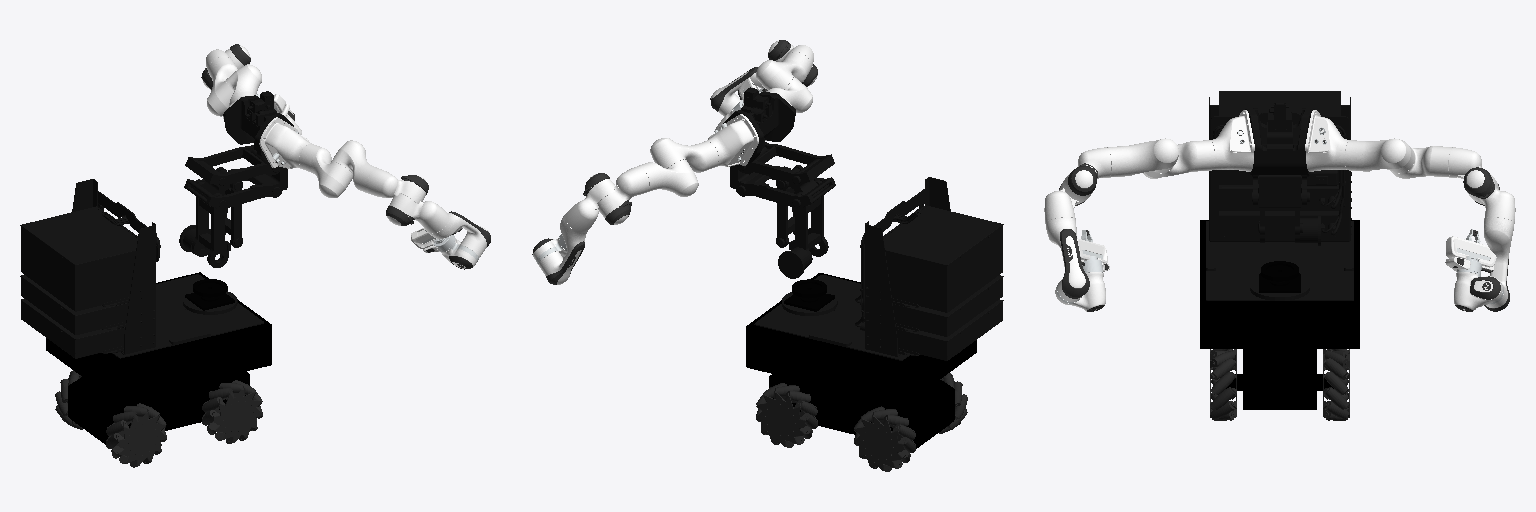
--- Render facts (derived) ---
3 views of the same robot in one strip: view 1: azimuth 30°, elevation 25°; view 2: azimuth 150°, elevation 25°; view 3: azimuth 270°, elevation 25° (orthographic).
Model curi with 40 links and 39 joints (23 revolute, 4 continuous, 4 prismatic, 8 fixed), rooted at summit_xls_base_footprint, posed joints at zero except 2 at the middle of their limits (panda_left_joint4 = -1.57, panda_right_joint4 = -1.57).
Visible links, largest first — view 1: control_box, summit_xls_base_link, summit_xls_back_right_wheel_link, summit_xls_front_right_wheel_link, torso_link_b2, torso_end, torso_link_c2, panda_right_link0, panda_right_link1, panda_right_link4, torso_link_c1, panda_right_link3 (+8 smaller); view 2: control_box, summit_xls_base_link, summit_xls_back_left_wheel_link, summit_xls_front_left_wheel_link, torso_link_b2, torso_end, torso_link_c2, panda_left_link0, panda_left_link3, panda_left_link1, torso_link_c1, panda_left_link5 (+9 smaller); view 3: control_box, summit_xls_base_link, torso_end, panda_right_link2, panda_left_link1, panda_right_link5, panda_left_link0, panda_right_link0, summit_xls_front_left_wheel_link, summit_xls_front_right_wheel_link, panda_right_link3, panda_left_link4 (+11 smaller).
Boxes of the visible links, <box> form: control_box: <box>20,179,263,358</box>; summit_xls_base_link: <box>46,272,271,444</box>; summit_xls_back_right_wheel_link: <box>106,403,166,467</box>; summit_xls_front_right_wheel_link: <box>202,380,262,443</box>; torso_link_b2: <box>179,182,230,267</box>; torso_end: <box>223,95,293,189</box>; torso_link_c2: <box>185,145,281,186</box>; panda_right_link0: <box>259,117,311,168</box>; panda_right_link1: <box>299,144,352,197</box>; panda_right_link4: <box>386,193,448,232</box>; torso_link_c1: <box>184,168,282,210</box>; panda_right_link3: <box>367,169,428,203</box>; control_box: <box>754,177,1003,360</box>; summit_xls_base_link: <box>746,273,976,448</box>; summit_xls_back_left_wheel_link: <box>854,406,915,471</box>; summit_xls_front_left_wheel_link: <box>756,383,817,447</box>; torso_link_b2: <box>778,180,828,278</box>; torso_end: <box>723,92,795,188</box>; torso_link_c2: <box>737,142,834,185</box>; panda_left_link0: <box>704,114,758,166</box>; panda_left_link3: <box>598,167,648,224</box>; panda_left_link1: <box>650,138,718,172</box>; torso_link_c1: <box>735,166,835,209</box>; panda_left_link5: <box>538,214,587,284</box>; control_box: <box>1206,91,1353,300</box>; summit_xls_base_link: <box>1200,220,1359,409</box>; torso_end: <box>1245,108,1314,207</box>; panda_right_link2: <box>1107,138,1178,177</box>; panda_left_link1: <box>1345,138,1414,172</box>; panda_right_link5: <box>1045,217,1089,301</box>; panda_left_link0: <box>1305,110,1348,171</box>; panda_right_link0: <box>1211,110,1254,171</box>; summit_xls_front_left_wheel_link: <box>1323,351,1349,420</box>; summit_xls_front_right_wheel_link: <box>1210,351,1236,420</box>; panda_right_link3: <box>1063,147,1111,200</box>; panda_left_link4: <box>1463,167,1515,222</box>.
Size in the robot's own frame: 1.62 by 1.7 by 1.39 metres.
Meshes: 25 distinct files referenced, 37 mesh visuals loaded (23 Collada DAE); not drawn: 2 (reference not matched to a file when rendering).

robot.urdf — curi:
<?xml version="1.0" ?>
<!-- =================================================================================== -->
<!-- |    This document was autogenerated by xacro from ../robots/curi.urdf.xacro      | -->
<!-- |    EDITING THIS FILE BY HAND IS NOT RECOMMENDED                                 | -->
<!-- =================================================================================== -->
<robot name="curi">
  <!-- in kg-->
  <!-- =============================================================== -->
  <!-- || This file does not contain official inertial properties   || -->
  <!-- || of panda robot. The values are from the identification    || -->
  <!-- || results published in: Identification of the Franka Emika  || -->
  <!-- || PandaRobot With Retrieval of Feasible Parameters Using    || -->
  <!-- || Penalty-Based Optimization                                || -->
  <!-- || by: Claudio Gaz, Marco Cognetti, Alexander Oliva,         || -->
  <!-- || Paolo Robuffo Giordano, Alessandro de Luca                || -->
  <!-- =============================================================== -->
  <link name="summit_xls_base_footprint">
    <visual>
      <origin rpy="0 0 0" xyz="0 0 0"/>
      <geometry>
        <box size="0.001 0.001 0.001"/>
      </geometry>
    </visual>
  </link>
  <joint name="summit_xls_base_footprint_joint" type="fixed">
    <origin rpy="0 0 0" xyz="0 0 0.127"/>
    <parent link="summit_xls_base_footprint"/>
    <child link="summit_xls_base_link"/>
  </joint>
  <!-- BASE_LINK -->
  <link name="summit_xls_base_link">
    <inertial>
      <mass value="125.0"/>
      <origin xyz="0 0 0"/>
      <inertia ixx="1.391" ixy="0.004" ixz="0.0" iyy="6.853" iyz="0.0" izz="6.125"/>
    </inertial>
    <visual>
      <origin rpy="0 0 0" xyz="0 0 0"/>
      <geometry>
        <mesh filename="../meshes/robotnik/bases/summit_xls_chassis.dae"/>
      </geometry>
      <material name="black">
        <color rgba="0.0 0.0 0.0 1"/>
      </material>
    </visual>
    <collision>
      <origin rpy="0 0 0 " xyz="0 0 0"/>
      <geometry>
        <mesh filename="../meshes/robotnik/bases/summit_xls_chassis.stl"/>
      </geometry>
    </collision>
  </link>
  <joint name="summit_xls_front_right_wheel_joint" type="continuous">
    <parent link="summit_xls_base_link"/>
    <child link="summit_xls_front_right_wheel_link"/>
    <origin rpy="0 0 0" xyz="0.2225 -0.2045 0.0"/>
    <axis rpy="0 0 0" xyz="0 1 0"/>
    <limit effort="100" velocity="100"/>
    <joint_properties damping="0.0" friction="0.0"/>
  </joint>
  <link name="summit_xls_front_right_wheel_link">
    <visual>
      <origin rpy="0 0 0" xyz="0 0 0"/>
      <geometry>
        <mesh filename="../meshes/robotnik/wheels/omni_wheel_2.dae"/>
      </geometry>
      <material name="darkgrey">
        <color rgba="0.2 0.2 0.2 1"/>
      </material>
    </visual>
    <collision>
      <origin rpy="1.5707963267948966 0 0" xyz="0 0 0"/>
      <geometry>
        <cylinder length="0.087" radius="0.127"/>
      </geometry>
    </collision>
    <inertial>
      <mass value="6.5"/>
      <origin xyz="0 0 0"/>
      <inertia ixx="0.0303095" ixy="0" ixz="0" iyy="0.05241925" iyz="0" izz="0.0303095"/>
    </inertial>
  </link>
  <joint name="summit_xls_front_left_wheel_joint" type="continuous">
    <parent link="summit_xls_base_link"/>
    <child link="summit_xls_front_left_wheel_link"/>
    <origin rpy="0 0 0" xyz="0.2225 0.2045 0.0"/>
    <axis rpy="0 0 0" xyz="0 1 0"/>
    <limit effort="100" velocity="100"/>
    <joint_properties damping="0.0" friction="0.0"/>
  </joint>
  <link name="summit_xls_front_left_wheel_link">
    <visual>
      <origin rpy="0 0 0" xyz="0 0 0"/>
      <geometry>
        <mesh filename="../meshes/robotnik/wheels/omni_wheel_1.dae"/>
      </geometry>
      <material name="darkgrey">
        <color rgba="0.2 0.2 0.2 1"/>
      </material>
    </visual>
    <collision>
      <origin rpy="1.5707963267948966 0 0" xyz="0 0 0"/>
      <geometry>
        <cylinder length="0.087" radius="0.127"/>
      </geometry>
    </collision>
    <inertial>
      <mass value="6.5"/>
      <origin xyz="0 0 0"/>
      <inertia ixx="0.0303095" ixy="0" ixz="0" iyy="0.05241925" iyz="0" izz="0.0303095"/>
    </inertial>
  </link>
  <joint name="summit_xls_back_left_wheel_joint" type="continuous">
    <parent link="summit_xls_base_link"/>
    <child link="summit_xls_back_left_wheel_link"/>
    <origin rpy="0 0 0" xyz="-0.2225 0.2045 0.0"/>
    <axis rpy="0 0 0" xyz="0 1 0"/>
    <limit effort="100" velocity="100"/>
    <joint_properties damping="0.0" friction="0.0"/>
  </joint>
  <link name="summit_xls_back_left_wheel_link">
    <visual>
      <origin rpy="0 0 0" xyz="0 0 0"/>
      <geometry>
        <mesh filename="../meshes/robotnik/wheels/omni_wheel_1.dae"/>
      </geometry>
      <material name="darkgrey">
        <color rgba="0.2 0.2 0.2 1"/>
      </material>
    </visual>
    <collision>
      <origin rpy="1.5707963267948966 0 0" xyz="0 0 0"/>
      <geometry>
        <cylinder length="0.087" radius="0.127"/>
      </geometry>
    </collision>
    <inertial>
      <mass value="6.5"/>
      <origin xyz="0 0 0"/>
      <inertia ixx="0.0303095" ixy="0" ixz="0" iyy="0.05241925" iyz="0" izz="0.0303095"/>
    </inertial>
  </link>
  <joint name="summit_xls_back_right_wheel_joint" type="continuous">
    <parent link="summit_xls_base_link"/>
    <child link="summit_xls_back_right_wheel_link"/>
    <origin rpy="0 0 0" xyz="-0.2225 -0.2045 0.0"/>
    <axis rpy="0 0 0" xyz="0 1 0"/>
    <limit effort="100" velocity="100"/>
    <joint_properties damping="0.0" friction="0.0"/>
  </joint>
  <link name="summit_xls_back_right_wheel_link">
    <visual>
      <origin rpy="0 0 0" xyz="0 0 0"/>
      <geometry>
        <mesh filename="../meshes/robotnik/wheels/omni_wheel_2.dae"/>
      </geometry>
      <material name="darkgrey">
        <color rgba="0.2 0.2 0.2 1"/>
      </material>
    </visual>
    <collision>
      <origin rpy="1.5707963267948966 0 0" xyz="0 0 0"/>
      <geometry>
        <cylinder length="0.087" radius="0.127"/>
      </geometry>
    </collision>
    <inertial>
      <mass value="6.5"/>
      <origin xyz="0 0 0"/>
      <inertia ixx="0.0303095" ixy="0" ixz="0" iyy="0.05241925" iyz="0" izz="0.0303095"/>
    </inertial>
  </link>
  <joint name="torso_joint_summit_xls_base_footprint" type="fixed">
    <parent link="summit_xls_base_footprint"/>
    <child link="control_box"/>
    <origin rpy="0 0 0" xyz="0 0 0.52262"/>
  </joint>
  <link name="control_box">
    <visual>
      <origin rpy="0 0 0" xyz="0 0 0"/>
      <geometry>
        <mesh filename="../meshes/clover/visual/control_box.dae"/>
      </geometry>
    </visual>
    <collision>
      <origin rpy="0 0 0" xyz="0 0 0"/>
      <geometry>
        <mesh filename="../meshes/clover/collision/control_box.stl"/>
      </geometry>
    </collision>
    <inertial>
      <!-- Estimated guesses from CAD -->
      <origin rpy="0 0 0" xyz="-0.221652 1.4173e-02 0.165597"/>
      <mass value="37.813"/>
      <inertia ixx="1.672305973" ixy="-0.023504956" ixz="-0.565170381" iyy="2.616747309" iyz="0.046623093" izz="2.524344244"/>
    </inertial>
  </link>
  <link name="torso_base1">
    <visual>
      <origin rpy="0 0 0" xyz="0 0 0"/>
      <geometry>
        <mesh filename="../meshes/clover/visual/torso_base1.dae"/>
      </geometry>
    </visual>
    <collision>
      <origin rpy="0 0 0" xyz="0 0 0"/>
      <geometry>
        <mesh filename="../meshes/clover/collision/torso_base1.stl"/>
      </geometry>
    </collision>
    <inertial>
      <origin rpy="0 0 0" xyz="0 0 0.02555"/>
      <mass value="1.18"/>
      <inertia ixx="0.00241116" ixy="0" ixz="0" iyy="0.00241116" iyz="0" izz="0.00362611"/>
    </inertial>
  </link>
  <joint name="torso_joint1" type="fixed">
    <origin rpy="0 0 0" xyz="0.2375 0 0.015"/>
    <parent link="control_box"/>
    <child link="torso_base1"/>
  </joint>
  <link name="torso_base2">
    <visual>
      <origin rpy="0 0 0" xyz="0 0 0"/>
      <geometry>
        <mesh filename="../meshes/clover/visual/torso_base2.dae"/>
      </geometry>
    </visual>
    <collision>
      <origin rpy="0 0 0" xyz="0 0 0"/>
      <geometry>
        <mesh filename="../meshes/clover/collision/torso_base2.stl"/>
      </geometry>
    </collision>
    <inertial>
      <origin rpy="0 0 0" xyz="-0.05478 0.03332 -0.07616"/>
      <mass value="35.66"/>
      <inertia ixx="0.87275935" ixy="-0.06173772" ixz="0.01895727" iyy="0.57302356" iyz="0.11888755" izz="1.06212354"/>
    </inertial>
  </link>
  <joint name="torso_actuated_joint1" type="revolute">
    <safety_controller k_position="100.0" k_velocity="40.0" soft_lower_limit="-1.5" soft_upper_limit="1.5"/>
    <origin rpy="0 0 0" xyz="0 0 0.215"/>
    <parent link="torso_base1"/>
    <child link="torso_base2"/>
    <axis xyz="0 0 1"/>
    <limit acceleration="0.6" effort="300" lower="-1.57" upper="1.57" velocity="0.3"/>
    <dynamics D="1" K="7000" damping="0.003" friction="0.0" mu_coulomb="0" mu_viscous="16"/>
  </joint>
  <link name="torso_link_b2">
    <visual>
      <origin rpy="0 0 0" xyz="0 0 0"/>
      <geometry>
        <mesh filename="../meshes/clover/visual/torso_link_b2.dae"/>
      </geometry>
    </visual>
    <collision>
      <origin rpy="0 0 0" xyz="0 0 0"/>
      <geometry>
        <mesh filename="../meshes/clover/collision/torso_link_b2.stl"/>
      </geometry>
    </collision>
    <inertial>
      <origin rpy="0 0 0" xyz="2.066e-03 2.4036e-02 8.3361e-02"/>
      <mass value="2.698"/>
      <inertia ixx="0.035907338" ixy="-0.000134319" ixz="0.000037769" iyy="0.023944853" iyz="-0.005304362" izz="0.014484777"/>
    </inertial>
  </link>
  <joint name="torso_actuated_joint2" type="revolute">
    <safety_controller k_position="100.0" k_velocity="40.0" soft_lower_limit="-1.2" soft_upper_limit="0.5"/>
    <origin rpy="0 0 0" xyz="0 0 0"/>
    <parent link="torso_base2"/>
    <child link="torso_link_b2"/>
    <axis xyz="0 1 0"/>
    <limit acceleration="0.6" effort="300" lower="-1.2" upper="0.5" velocity="0.3"/>
    <dynamics D="1" K="7000" damping="0.003" friction="0.0" mu_coulomb="0" mu_viscous="16"/>
  </joint>
  <link name="torso_middle">
    <visual>
      <origin rpy="0 0 0" xyz="0 0 0"/>
      <geometry>
        <mesh filename="../meshes/clover/visual/torso_middle.dae"/>
      </geometry>
    </visual>
    <collision>
      <origin rpy="0 0 0" xyz="0 0 0"/>
      <geometry>
        <mesh filename="../meshes/clover/collision/torso_middle.stl"/>
      </geometry>
    </collision>
    <inertial>
      <origin rpy="0 0 0" xyz="3.2089e-02 0 4.789e-02"/>
      <mass value="2.688"/>
      <inertia ixx="0.00744652" ixy="-0.00003495" ixz="0.000230038" iyy="0.006884728" iyz="0.000041279" izz="0.008084049"/>
    </inertial>
  </link>
  <joint name="torso_joint5" type="revolute">
    <safety_controller k_position="100.0" k_velocity="40.0" soft_lower_limit="-0.5" soft_upper_limit="1.2"/>
    <origin rpy="0 0 0" xyz="0 0 0.25"/>
    <parent link="torso_link_b2"/>
    <child link="torso_middle"/>
    <axis xyz="0 1 0"/>
    <limit acceleration="0.6" effort="300" lower="-0.5" upper="1.2" velocity="0.3"/>
    <dynamics D="1" K="7000" damping="0.003" friction="0.0" mu_coulomb="0" mu_viscous="16"/>
    <mimic joint="torso_actuated_joint2" multiplier="-1"/>
  </joint>
  <link name="torso_link_c1">
    <visual>
      <origin rpy="0 0 0" xyz="0 0 0"/>
      <geometry>
        <mesh filename="../meshes/clover/visual/torso_link_c1.dae"/>
      </geometry>
    </visual>
    <collision>
      <origin rpy="0 0 0" xyz="0 0 0"/>
      <geometry>
        <mesh filename="../meshes/clover/collision/torso_link_c1.stl"/>
      </geometry>
    </collision>
    <inertial>
      <origin rpy="0 0 0" xyz="0.10533 1.503e-03 9.863e-03"/>
      <mass value="2.4"/>
      <inertia ixx="0.014986407" ixy="-1.7102e-05" ixz="-4.53321e-04" iyy="0.027549549" iyz="-3.557e-05" izz="0.041344611"/>
    </inertial>
  </link>
  <joint name="torso_actuated_joint3" type="revolute">
    <safety_controller k_position="100.0" k_velocity="40.0" soft_lower_limit="-0.9" soft_upper_limit="0.9"/>
    <origin rpy="0 0 0" xyz="0 0 0"/>
    <parent link="torso_middle"/>
    <child link="torso_link_c1"/>
    <axis xyz="0 1 0"/>
    <limit acceleration="0.6" effort="300" lower="-0.9" upper="0.9" velocity="0.3"/>
    <dynamics D="1" K="7000" damping="0.003" friction="0.0" mu_coulomb="0" mu_viscous="16"/>
  </joint>
  <link name="torso_end">
    <visual>
      <origin rpy="0 0 0" xyz="0 0 0"/>
      <geometry>
        <mesh filename="../meshes/clover/visual/torso_end.dae"/>
      </geometry>
    </visual>
    <collision>
      <origin rpy="0 0 0" xyz="0 0 0"/>
      <geometry>
        <mesh filename="../meshes/clover/collision/torso_end.stl"/>
      </geometry>
    </collision>
    <inertial>
      <origin rpy="0 0 0" xyz="1.3086e-02 0.132e-03 0.184066"/>
      <mass value="12.083"/>
      <inertia ixx="0.146638956" ixy="-2.2432e-05" ixz="-0.012989506" iyy="0.097685785" iyz="-2.19304e-04" izz="0.100449047"/>
    </inertial>
  </link>
  <joint name="torso_joint8" type="revolute">
    <safety_controller k_position="100.0" k_velocity="40.0" soft_lower_limit="-0.9" soft_upper_limit="0.9"/>
    <origin rpy="0 0 0" xyz="0.25 0 0"/>
    <parent link="torso_link_c1"/>
    <child link="torso_end"/>
    <axis xyz="0 1 0"/>
    <limit acceleration="0.6" effort="300" lower="-0.9" upper="0.9" velocity="0.3"/>
    <dynamics D="1" K="7000" damping="0.003" friction="0.0" mu_coulomb="0" mu_viscous="16"/>
    <mimic joint="torso_actuated_joint3" multiplier="-1"/>
  </joint>
  <link name="torso_link_b1">
    <visual>
      <origin rpy="0 0 0" xyz="0 0 0"/>
      <geometry>
        <mesh filename="../meshes/clover/visual/torso_link_b1.dae"/>
      </geometry>
    </visual>
    <collision>
      <origin rpy="0 0 0" xyz="0 0 0"/>
      <geometry>
        <mesh filename="../meshes/clover/collision/torso_link_b1.stl"/>
      </geometry>
    </collision>
    <inertial>
      <origin rpy="0 0 0" xyz="0 -0.362e-03 0.12405"/>
      <mass value="1.319"/>
      <inertia ixx="0.01417626" ixy="0" ixz="0" iyy="0.01069895" iyz="0.00005678" izz="0.0039678"/>
    </inertial>
  </link>
  <joint name="torso_joint4" type="revolute">
    <safety_controller k_position="100.0" k_velocity="40.0" soft_lower_limit="-1.2" soft_upper_limit="0.5"/>
    <origin rpy="0 0 0" xyz="0.0866 0 0.05"/>
    <parent link="torso_base2"/>
    <child link="torso_link_b1"/>
    <axis xyz="0 1 0"/>
    <limit acceleration="0.6" effort="300" lower="-1.2" upper="0.5" velocity="0.3"/>
    <dynamics D="1" K="7000" damping="0.003" friction="0.0" mu_coulomb="0" mu_viscous="16"/>
    <mimic joint="torso_actuated_joint2" multiplier="1"/>
  </joint>
  <link name="torso_link_c2">
    <visual>
      <origin rpy="0 0 0" xyz="0 0 0"/>
      <geometry>
        <mesh filename="../meshes/clover/visual/torso_link_c2.dae"/>
      </geometry>
    </visual>
    <collision>
      <origin rpy="0 0 0" xyz="0 0 0"/>
      <geometry>
        <mesh filename="../meshes/clover/collision/torso_link_c2.stl"/>
      </geometry>
    </collision>
    <inertial>
      <origin rpy="0 0 0" xyz="0.120384 0.569e-03 6.703e-03"/>
      <mass value="2.148"/>
      <inertia ixx="0.010693997" ixy="5.645e-06" ixz="-9.4779e-04" iyy="0.026717753" iyz="-8.196e-06" izz="0.036543169"/>
    </inertial>
  </link>
  <joint name="torso_joint7" type="revolute">
    <safety_controller k_position="100.0" k_velocity="40.0" soft_lower_limit="-0.9" soft_upper_limit="0.9"/>
    <origin rpy="0 0 0" xyz="0 0 0.1"/>
    <parent link="torso_middle"/>
    <child link="torso_link_c2"/>
    <axis xyz="0 1 0"/>
    <limit acceleration="0.6" effort="300" lower="-0.9" upper="0.9" velocity="0.3"/>
    <dynamics D="1" K="7000" damping="0.003" friction="0.0" mu_coulomb="0" mu_viscous="16"/>
    <mimic joint="torso_actuated_joint3" multiplier="1"/>
  </joint>
  <joint name="head_joint_torso_end" type="fixed">
    <parent link="torso_end"/>
    <child link="head_base"/>
    <origin rpy="0 0 0" xyz="0.01466 0 0.2775"/>
  </joint>
  <link name="head_base">
    <visual>
      <origin rpy="0 0 0" xyz="0 0 0"/>
      <geometry>
        <mesh filename="../meshes/clover/visual/head_base.dae"/>
      </geometry>
    </visual>
    <collision>
      <origin rpy="0 0 0" xyz="0 0 0"/>
      <geometry>
        <mesh filename="../meshes/clover/collision/head_base.stl"/>
      </geometry>
    </collision>
    <inertial>
      <!-- Estimated guesses from CAD -->
      <origin rpy="0 0 0" xyz="-1.9726e-02 1.281e-03 2.2693e-02"/>
      <mass value="0.803"/>
      <inertia ixx="6.56432e-04" ixy="-3.4976e-05" ixz="0.652e-6" iyy="6.42664e-04" iyz="-1.577e-06" izz="1.046862e-03"/>
    </inertial>
  </link>
  <joint name="head_actuated_joint1" type="revolute">
    <safety_controller k_position="100.0" k_velocity="40.0" soft_lower_limit="-1.5" soft_upper_limit="1.5"/>
    <origin rpy="0 0 0" xyz="0 0 0.045"/>
    <parent link="head_base"/>
    <child link="head_link1"/>
    <axis xyz="0 0 1"/>
    <limit effort="30" lower="-1.57" upper="1.57" velocity="1.0"/>
    <dynamics D="1" K="7000" damping="0.003" friction="0.0" mu_coulomb="0" mu_viscous="16"/>
  </joint>
  <link name="head_link1">
    <visual>
      <origin rpy="0 0 0" xyz="0 0 0"/>
      <geometry>
        <mesh filename="../meshes/clover/visual/head_link1.dae"/>
      </geometry>
    </visual>
    <collision>
      <origin rpy="0 0 0" xyz="0 0 0"/>
      <geometry>
        <mesh filename="../meshes/clover/collision/head_link1.stl"/>
      </geometry>
    </collision>
    <inertial>
      <!-- Estimated guesses from CAD -->
      <origin rpy="0 0 0" xyz="-1.8392e-02 -0.4e-03 2.8338e-02"/>
      <mass value="0.534"/>
      <inertia ixx="2.34142e-04" ixy="-3.129e-06" ixz="6.321e-05" iyy="5.09246e-04" iyz="1.49e-06" izz="4.3777e-04"/>
    </inertial>
  </link>
  <joint name="head_actuated_joint2" type="revolute">
    <safety_controller k_position="100.0" k_velocity="40.0" soft_lower_limit="-0.8" soft_upper_limit="0.5"/>
    <origin rpy="0 0 0" xyz="0 0 0.043"/>
    <parent link="head_link1"/>
    <child link="head_link2"/>
    <axis xyz="0 1 0"/>
    <limit effort="30" lower="-0.82" upper="0.52" velocity="1.0"/>
    <dynamics D="1" K="7000" damping="0.003" friction="0.0" mu_coulomb="0" mu_viscous="16"/>
  </joint>
  <link name="head_link2">
    <visual>
      <origin rpy="0 0 0" xyz="0 0 0"/>
      <geometry>
        <mesh filename="../meshes/clover/visual/head_link2.dae"/>
      </geometry>
    </visual>
    <collision>
      <origin rpy="0 0 0" xyz="0 0 0"/>
      <geometry>
        <mesh filename="../meshes/clover/collision/head_link2.stl"/>
      </geometry>
    </collision>
    <inertial>
      <!-- Estimated guesses from CAD -->
      <origin rpy="0 0 0" xyz="3.8624e-02 0 0.143829"/>
      <mass value="1.346"/>
      <inertia ixx="0.010306864" ixy="-5.953e-06" ixz="6.74795e-04" iyy="0.011632066" iyz="-1.125e-06" izz="0.009582498"/>
    </inertial>
  </link>
  <joint name="panda_left_joint_torso_end" type="fixed">
    <parent link="torso_end"/>
    <child link="panda_left_link0"/>
    <origin rpy="-1.5004311592913677 0.8772798703277918 -0.2038499389018784" xyz="0.02842 0.11216 0.19004"/>
  </joint>
  <link name="panda_left_link0">
    <visual>
      <origin rpy="0 0 0" xyz="0 0 0"/>
      <geometry>
        <mesh filename="../meshes/franka/visual/link0.dae"/>
      </geometry>
    </visual>
    <collision>
      <origin rpy="0 0 0" xyz="0 0 0"/>
      <geometry>
        <mesh filename="../meshes/franka/collision/link0.stl"/>
      </geometry>
    </collision>
    <inertial>
      <!-- Estimated guesses from CAD -->
      <origin rpy="0 0 0" xyz="-0.041018 -0.00014 0.049974"/>
      <mass value="0.629769"/>
      <inertia ixx="0.00315" ixy="8.2904E-07" ixz="0.00015" iyy="0.00388" iyz="8.2299E-06" izz="0.004285"/>
    </inertial>
  </link>
  <link name="panda_left_link1">
    <visual>
      <origin rpy="0 0 0" xyz="0 0 0"/>
      <geometry>
        <mesh filename="../meshes/franka/visual/link1.dae"/>
      </geometry>
    </visual>
    <collision>
      <origin rpy="0 0 0" xyz="0 0 0"/>
      <geometry>
        <mesh filename="../meshes/franka/collision/link1.stl"/>
      </geometry>
    </collision>
    <inertial>
      <origin rpy="0 0 0" xyz="0.003875 0.002081 -0.04762"/>
      <mass value="4.970684"/>
      <inertia ixx="0.70337" ixy="-0.00013900" ixz="0.0067720" iyy="0.70661" iyz="0.019169" izz="0.0091170"/>
    </inertial>
  </link>
  <joint name="panda_left_joint1" type="revolute">
    <safety_controller k_position="100.0" k_velocity="40.0" soft_lower_limit="-2.8973" soft_upper_limit="2.8973"/>
    <origin rpy="0 0 0" xyz="0 0 0.333"/>
    <parent link="panda_left_link0"/>
    <child link="panda_left_link1"/>
    <axis xyz="0 0 1"/>
    <limit acceleration="15" effort="87" lower="-2.8973" upper="2.8973" velocity="2.1750"/>
    <dynamics D="1" K="7000" damping="0.003" friction="0.0" mu_coulomb="0" mu_viscous="16"/>
  </joint>
  <link name="panda_left_link2">
    <visual>
      <origin rpy="0 0 0" xyz="0 0 0"/>
      <geometry>
        <mesh filename="../meshes/franka/visual/link2.dae"/>
      </geometry>
    </visual>
    <collision>
      <origin rpy="0 0 0" xyz="0 0 0"/>
      <geometry>
        <mesh filename="../meshes/franka/collision/link2.stl"/>
      </geometry>
    </collision>
    <inertial>
      <origin rpy="0 0 0" xyz=" -0.003141 -0.02872  0.003495"/>
      <mass value="0.646926"/>
      <inertia ixx="0.0079620" ixy="-3.9250e-3" ixz="1.0254e-02" iyy="2.8110e-02" iyz="7.0400e-04" izz="2.5995e-02"/>
    </inertial>
  </link>
  <joint name="panda_left_joint2" type="revolute">
    <safety_controller k_position="100.0" k_velocity="40.0" soft_lower_limit="-1.7628" soft_upper_limit="1.7628"/>
    <origin rpy="-1.5707963267948966 0 0" xyz="0 0 0"/>
    <parent link="panda_left_link1"/>
    <child link="panda_left_link2"/>
    <axis xyz="0 0 1"/>
    <limit acceleration="7.5" effort="87" lower="-1.7628" upper="1.7628" velocity="2.1750"/>
    <dynamics D="1" K="7000" damping="0.003" friction="0.0" mu_coulomb="0" mu_viscous="16"/>
  </joint>
  <link name="panda_left_link3">
    <visual>
      <origin rpy="0 0 0" xyz="0 0 0"/>
      <geometry>
        <mesh filename="../meshes/franka/visual/link3.dae"/>
      </geometry>
    </visual>
    <collision>
      <origin rpy="0 0 0" xyz="0 0 0"/>
      <geometry>
        <mesh filename="../meshes/franka/collision/link3.stl"/>
      </geometry>
    </collision>
    <inertial>
      <origin rpy="0 0 0" xyz="2.7518e-02 3.9252e-02 -6.6502e-02"/>
      <mass value="3.228604"/>
      <inertia ixx="3.7242e-02" ixy="-4.7610e-03" ixz="-1.1396e-02" iyy="3.6155e-02" iyz="-1.2805e-02" izz="1.0830e-02"/>
    </inertial>
  </link>
  <joint name="panda_left_joint3" type="revolute">
    <safety_controller k_position="100.0" k_velocity="40.0" soft_lower_limit="-2.8973" soft_upper_limit="2.8973"/>
    <origin rpy="1.5707963267948966 0 0" xyz="0 -0.316 0"/>
    <parent link="panda_left_link2"/>
    <child link="panda_left_link3"/>
    <axis xyz="0 0 1"/>
    <limit acceleration="12.5" effort="87" lower="-2.8973" upper="2.8973" velocity="2.1750"/>
    <dynamics D="1" K="7000" damping="0.003" friction="0.0" mu_coulomb="0" mu_viscous="16"/>
  </joint>
  <link name="panda_left_link4">
    <visual>
      <origin rpy="0 0 0" xyz="0 0 0"/>
      <geometry>
        <mesh filename="../meshes/franka/visual/link4.dae"/>
      </geometry>
    </visual>
    <collision>
      <origin rpy="0 0 0" xyz="0 0 0"/>
      <geometry>
        <mesh filename="../meshes/franka/collision/link4.stl"/>
      </geometry>
    </collision>
    <inertial>
      <origin rpy="0 0 0" xyz="-5.317e-02 1.04419e-01 2.7454e-02"/>
      <mass value="3.587895"/>
      <inertia ixx="2.5853e-02" ixy="7.7960e-03" ixz="-1.3320e-03" iyy="1.9552e-02" iyz="8.6410e-03" izz="2.8323e-02"/>
    </inertial>
  </link>
  <joint name="panda_left_joint4" type="revolute">
    <safety_controller k_position="100.0" k_velocity="40.0" soft_lower_limit="-3.0718" soft_upper_limit="-0.0698"/>
    <origin rpy="1.5707963267948966 0 0" xyz="0.0825 0 0"/>
    <parent link="panda_left_link3"/>
    <child link="panda_left_link4"/>
    <axis xyz="0 0 1"/>
    <limit acceleration="12.5" effort="87" lower="-3.0718" upper="-0.0698" velocity="2.1750"/>
    <dynamics D="1" K="7000" damping="0.003" friction="0.0" mu_coulomb="0" mu_viscous="16"/>
  </joint>
  <link name="panda_left_link5">
    <visual>
      <origin rpy="0 0 0" xyz="0 0 0"/>
      <geometry>
        <mesh filename="../meshes/franka/visual/link5.dae"/>
      </geometry>
    </visual>
    <collision>
      <origin rpy="0 0 0" xyz="0 0 0"/>
      <geometry>
        <mesh filename="../meshes/franka/collision/link5.stl"/>
      </geometry>
    </collision>
    <inertial>
      <origin rpy="0 0 0" xyz="-1.1953e-02 4.1065e-02 -3.8437e-02"/>
      <mass value="1.225946"/>
      <inertia ixx="3.5549e-02" ixy="-2.1170e-03" ixz="-4.0370e-03" iyy="2.9474e-02" iyz="2.2900e-04" izz="8.6270e-03"/>
    </inertial>
  </link>
  <joint name="panda_left_joint5" type="revolute">
    <safety_controller k_position="100.0" k_velocity="40.0" soft_lower_limit="-2.8973" soft_upper_limit="2.8973"/>
    <origin rpy="-1.5707963267948966 0 0" xyz="-0.0825 0.384 0"/>
    <parent link="panda_left_link4"/>
    <child link="panda_left_link5"/>
    <axis xyz="0 0 1"/>
    <limit acceleration="15" effort="12" lower="-2.8973" upper="2.8973" velocity="2.6100"/>
    <dynamics D="1" K="7000" damping="0.003" friction="0.0" mu_coulomb="0" mu_viscous="16"/>
  </joint>
  <link name="panda_left_link6">
    <visual>
      <origin rpy="0 0 0" xyz="0 0 0"/>
      <geometry>
        <mesh filename="../meshes/franka/visual/link6.dae"/>
      </geometry>
    </visual>
    <collision>
      <origin rpy="0 0 0" xyz="0 0 0"/>
      <geometry>
        <mesh filename="../meshes/franka/collision/link6.stl"/>
      </geometry>
    </collision>
    <inertial>
      <origin rpy="0 0 0" xyz="6.0149e-02 -1.4117e-02 -1.0517e-02"/>
      <mass value="1.666555"/>
      <inertia ixx="1.9640e-03" ixy="1.0900e-04" ixz="-1.1580e-03" iyy="4.3540e-03" iyz="3.4100e-04" izz="5.4330e-03"/>
    </inertial>
  </link>
  <joint name="panda_left_joint6" type="revolute">
    <safety_controller k_position="100.0" k_velocity="40.0" soft_lower_limit="-0.0175" soft_upper_limit="3.7525"/>
    <origin rpy="1.5707963267948966 0 0" xyz="0 0 0"/>
    <parent link="panda_left_link5"/>
    <child link="panda_left_link6"/>
    <axis xyz="0 0 1"/>
    <limit acceleration="20" effort="12" lower="-0.0175" upper="3.7525" velocity="2.6100"/>
    <dynamics D="1" K="7000" damping="0.003" friction="0.0" mu_coulomb="0" mu_viscous="16"/>
  </joint>
  <link name="panda_left_link7">
    <visual>
      <origin rpy="0 0 0" xyz="0 0 0"/>
      <geometry>
        <mesh filename="../meshes/franka/visual/link7.dae"/>
      </geometry>
    </visual>
    <collision>
      <origin rpy="0 0 0" xyz="0 0 0"/>
      <geometry>
        <mesh filename="../meshes/franka/collision/link7.stl"/>
      </geometry>
    </collision>
    <inertial>
      <origin rpy="0 0 0" xyz="1.0517e-02 -4.252e-03 6.1597e-02"/>
      <mass value="7.35522e-01"/>
      <inertia ixx="1.2516e-02" ixy="-4.2800e-04" ixz="-1.1960e-03" iyy="1.0027e-02" iyz="-7.4100e-04" izz="4.8150e-03"/>
    </inertial>
  </link>
  <joint name="panda_left_joint7" type="revolute">
    <safety_controller k_position="100.0" k_velocity="40.0" soft_lower_limit="-2.8973" soft_upper_limit="2.8973"/>
    <origin rpy="1.5707963267948966 0 0" xyz="0.088 0 0"/>
    <parent link="panda_left_link6"/>
    <child link="panda_left_link7"/>
    <axis xyz="0 0 1"/>
    <limit acceleration="20" effort="12" lower="-2.8973" upper="2.8973" velocity="2.6100"/>
    <dynamics D="1" K="7000" damping="0.003" friction="0.0" mu_coulomb="0" mu_viscous="16"/>
  </joint>
  <joint name="panda_right_joint_torso_end" type="fixed">
    <parent link="torso_end"/>
    <child link="panda_right_link0"/>
    <origin rpy="1.5004311592913677 0.8772798703277918 0.2038499389018784" xyz="0.02842 -0.11216 0.19004"/>
  </joint>
  <link name="panda_right_link0">
    <visual>
      <origin rpy="0 0 0" xyz="0 0 0"/>
      <geometry>
        <mesh filename="../meshes/franka/visual/link0.dae"/>
      </geometry>
    </visual>
    <collision>
      <origin rpy="0 0 0" xyz="0 0 0"/>
      <geometry>
        <mesh filename="../meshes/franka/collision/link0.stl"/>
      </geometry>
    </collision>
    <inertial>
      <!-- Estimated guesses from CAD -->
      <origin rpy="0 0 0" xyz="-0.041018 -0.00014 0.049974"/>
      <mass value="0.629769"/>
      <inertia ixx="0.00315" ixy="8.2904E-07" ixz="0.00015" iyy="0.00388" iyz="8.2299E-06" izz="0.004285"/>
    </inertial>
  </link>
  <link name="panda_right_link1">
    <visual>
      <origin rpy="0 0 0" xyz="0 0 0"/>
      <geometry>
        <mesh filename="../meshes/franka/visual/link1.dae"/>
      </geometry>
    </visual>
    <collision>
      <origin rpy="0 0 0" xyz="0 0 0"/>
      <geometry>
        <mesh filename="../meshes/franka/collision/link1.stl"/>
      </geometry>
    </collision>
    <inertial>
      <origin rpy="0 0 0" xyz="0.003875 0.002081 -0.04762"/>
      <mass value="4.970684"/>
      <inertia ixx="0.70337" ixy="-0.00013900" ixz="0.0067720" iyy="0.70661" iyz="0.019169" izz="0.0091170"/>
    </inertial>
  </link>
  <joint name="panda_right_joint1" type="revolute">
    <safety_controller k_position="100.0" k_velocity="40.0" soft_lower_limit="-2.8973" soft_upper_limit="2.8973"/>
    <origin rpy="0 0 0" xyz="0 0 0.333"/>
    <parent link="panda_right_link0"/>
    <child link="panda_right_link1"/>
    <axis xyz="0 0 1"/>
    <limit acceleration="15" effort="87" lower="-2.8973" upper="2.8973" velocity="2.1750"/>
    <dynamics D="1" K="7000" damping="0.003" friction="0.0" mu_coulomb="0" mu_viscous="16"/>
  </joint>
  <link name="panda_right_link2">
    <visual>
      <origin rpy="0 0 0" xyz="0 0 0"/>
      <geometry>
        <mesh filename="../meshes/franka/visual/link2.dae"/>
      </geometry>
    </visual>
    <collision>
      <origin rpy="0 0 0" xyz="0 0 0"/>
      <geometry>
        <mesh filename="../meshes/franka/collision/link2.stl"/>
      </geometry>
    </collision>
    <inertial>
      <origin rpy="0 0 0" xyz=" -0.003141 -0.02872  0.003495"/>
      <mass value="0.646926"/>
      <inertia ixx="0.0079620" ixy="-3.9250e-3" ixz="1.0254e-02" iyy="2.8110e-02" iyz="7.0400e-04" izz="2.5995e-02"/>
    </inertial>
  </link>
  <joint name="panda_right_joint2" type="revolute">
    <safety_controller k_position="100.0" k_velocity="40.0" soft_lower_limit="-1.7628" soft_upper_limit="1.7628"/>
    <origin rpy="-1.5707963267948966 0 0" xyz="0 0 0"/>
    <parent link="panda_right_link1"/>
    <child link="panda_right_link2"/>
    <axis xyz="0 0 1"/>
    <limit acceleration="7.5" effort="87" lower="-1.7628" upper="1.7628" velocity="2.1750"/>
    <dynamics D="1" K="7000" damping="0.003" friction="0.0" mu_coulomb="0" mu_viscous="16"/>
  </joint>
  <link name="panda_right_link3">
    <visual>
      <origin rpy="0 0 0" xyz="0 0 0"/>
      <geometry>
        <mesh filename="../meshes/franka/visual/link3.dae"/>
      </geometry>
    </visual>
    <collision>
      <origin rpy="0 0 0" xyz="0 0 0"/>
      <geometry>
        <mesh filename="../meshes/franka/collision/link3.stl"/>
      </geometry>
    </collision>
    <inertial>
      <origin rpy="0 0 0" xyz="2.7518e-02 3.9252e-02 -6.6502e-02"/>
      <mass value="3.228604"/>
      <inertia ixx="3.7242e-02" ixy="-4.7610e-03" ixz="-1.1396e-02" iyy="3.6155e-02" iyz="-1.2805e-02" izz="1.0830e-02"/>
    </inertial>
  </link>
  <joint name="panda_right_joint3" type="revolute">
    <safety_controller k_position="100.0" k_velocity="40.0" soft_lower_limit="-2.8973" soft_upper_limit="2.8973"/>
    <origin rpy="1.5707963267948966 0 0" xyz="0 -0.316 0"/>
    <parent link="panda_right_link2"/>
    <child link="panda_right_link3"/>
    <axis xyz="0 0 1"/>
    <limit acceleration="12.5" effort="87" lower="-2.8973" upper="2.8973" velocity="2.1750"/>
    <dynamics D="1" K="7000" damping="0.003" friction="0.0" mu_coulomb="0" mu_viscous="16"/>
  </joint>
  <link name="panda_right_link4">
    <visual>
      <origin rpy="0 0 0" xyz="0 0 0"/>
      <geometry>
        <mesh filename="../meshes/franka/visual/link4.dae"/>
      </geometry>
    </visual>
    <collision>
      <origin rpy="0 0 0" xyz="0 0 0"/>
      <geometry>
        <mesh filename="../meshes/franka/collision/link4.stl"/>
      </geometry>
    </collision>
    <inertial>
      <origin rpy="0 0 0" xyz="-5.317e-02 1.04419e-01 2.7454e-02"/>
      <mass value="3.587895"/>
      <inertia ixx="2.5853e-02" ixy="7.7960e-03" ixz="-1.3320e-03" iyy="1.9552e-02" iyz="8.6410e-03" izz="2.8323e-02"/>
    </inertial>
  </link>
  <joint name="panda_right_joint4" type="revolute">
    <safety_controller k_position="100.0" k_velocity="40.0" soft_lower_limit="-3.0718" soft_upper_limit="-0.0698"/>
    <origin rpy="1.5707963267948966 0 0" xyz="0.0825 0 0"/>
    <parent link="panda_right_link3"/>
    <child link="panda_right_link4"/>
    <axis xyz="0 0 1"/>
    <limit acceleration="12.5" effort="87" lower="-3.0718" upper="-0.0698" velocity="2.1750"/>
    <dynamics D="1" K="7000" damping="0.003" friction="0.0" mu_coulomb="0" mu_viscous="16"/>
  </joint>
  <link name="panda_right_link5">
    <visual>
      <origin rpy="0 0 0" xyz="0 0 0"/>
      <geometry>
        <mesh filename="../meshes/franka/visual/link5.dae"/>
      </geometry>
    </visual>
    <collision>
      <origin rpy="0 0 0" xyz="0 0 0"/>
      <geometry>
        <mesh filename="../meshes/franka/collision/link5.stl"/>
      </geometry>
    </collision>
    <inertial>
      <origin rpy="0 0 0" xyz="-1.1953e-02 4.1065e-02 -3.8437e-02"/>
      <mass value="1.225946"/>
      <inertia ixx="3.5549e-02" ixy="-2.1170e-03" ixz="-4.0370e-03" iyy="2.9474e-02" iyz="2.2900e-04" izz="8.6270e-03"/>
    </inertial>
  </link>
  <joint name="panda_right_joint5" type="revolute">
    <safety_controller k_position="100.0" k_velocity="40.0" soft_lower_limit="-2.8973" soft_upper_limit="2.8973"/>
    <origin rpy="-1.5707963267948966 0 0" xyz="-0.0825 0.384 0"/>
    <parent link="panda_right_link4"/>
    <child link="panda_right_link5"/>
    <axis xyz="0 0 1"/>
    <limit acceleration="15" effort="12" lower="-2.8973" upper="2.8973" velocity="2.6100"/>
    <dynamics D="1" K="7000" damping="0.003" friction="0.0" mu_coulomb="0" mu_viscous="16"/>
  </joint>
  <link name="panda_right_link6">
    <visual>
      <origin rpy="0 0 0" xyz="0 0 0"/>
      <geometry>
        <mesh filename="../meshes/franka/visual/link6.dae"/>
      </geometry>
    </visual>
    <collision>
      <origin rpy="0 0 0" xyz="0 0 0"/>
      <geometry>
        <mesh filename="../meshes/franka/collision/link6.stl"/>
      </geometry>
    </collision>
    <inertial>
      <origin rpy="0 0 0" xyz="6.0149e-02 -1.4117e-02 -1.0517e-02"/>
      <mass value="1.666555"/>
      <inertia ixx="1.9640e-03" ixy="1.0900e-04" ixz="-1.1580e-03" iyy="4.3540e-03" iyz="3.4100e-04" izz="5.4330e-03"/>
    </inertial>
  </link>
  <joint name="panda_right_joint6" type="revolute">
    <safety_controller k_position="100.0" k_velocity="40.0" soft_lower_limit="-0.0175" soft_upper_limit="3.7525"/>
    <origin rpy="1.5707963267948966 0 0" xyz="0 0 0"/>
    <parent link="panda_right_link5"/>
    <child link="panda_right_link6"/>
    <axis xyz="0 0 1"/>
    <limit acceleration="20" effort="12" lower="-0.0175" upper="3.7525" velocity="2.6100"/>
    <dynamics D="1" K="7000" damping="0.003" friction="0.0" mu_coulomb="0" mu_viscous="16"/>
  </joint>
  <link name="panda_right_link7">
    <visual>
      <origin rpy="0 0 0" xyz="0 0 0"/>
      <geometry>
        <mesh filename="../meshes/franka/visual/link7.dae"/>
      </geometry>
    </visual>
    <collision>
      <origin rpy="0 0 0" xyz="0 0 0"/>
      <geometry>
        <mesh filename="../meshes/franka/collision/link7.stl"/>
      </geometry>
    </collision>
    <inertial>
      <origin rpy="0 0 0" xyz="1.0517e-02 -4.252e-03 6.1597e-02"/>
      <mass value="7.35522e-01"/>
      <inertia ixx="1.2516e-02" ixy="-4.2800e-04" ixz="-1.1960e-03" iyy="1.0027e-02" iyz="-7.4100e-04" izz="4.8150e-03"/>
    </inertial>
  </link>
  <joint name="panda_right_joint7" type="revolute">
    <safety_controller k_position="100.0" k_velocity="40.0" soft_lower_limit="-2.8973" soft_upper_limit="2.8973"/>
    <origin rpy="1.5707963267948966 0 0" xyz="0.088 0 0"/>
    <parent link="panda_right_link6"/>
    <child link="panda_right_link7"/>
    <axis xyz="0 0 1"/>
    <limit acceleration="20" effort="12" lower="-2.8973" upper="2.8973" velocity="2.6100"/>
    <dynamics D="1" K="7000" damping="0.003" friction="0.0" mu_coulomb="0" mu_viscous="16"/>
  </joint>
  <joint name="panda_left_hand_joint" type="fixed">
    <parent link="panda_left_link7"/>
    <child link="panda_left_hand"/>
    <origin rpy="0 0 -0.7853981633974483" xyz="0 0 0.107"/>
  </joint>
  <link name="panda_left_hand">
    <visual>
      <geometry>
        <mesh filename="../meshes/franka/visual/hand.dae"/>
      </geometry>
    </visual>
    <collision>
      <geometry>
        <mesh filename="../meshes/franka/collision/hand.stl"/>
      </geometry>
    </collision>
    <inertial>
      <mass value="0.73"/>
      <origin xyz="-0.01 0 0.03"/>
      <inertia ixx="0.001" ixy="0" ixz="0" iyy="0.0025" iyz="0" izz="0.0017"/>
    </inertial>
  </link>
  <link name="panda_left_leftfinger">
    <inertial>
      <mass value="0.015"/>
      <inertia ixx="2.3749999999999997e-06" ixy="0" ixz="0" iyy="2.3749999999999997e-06" iyz="0" izz="7.5e-07"/>
    </inertial>
    <visual>
      <geometry>
        <mesh filename="../meshes/franka/visual/finger.dae"/>
      </geometry>
    </visual>
    <!-- screw mount -->
    <collision>
      <origin rpy="0 0 0" xyz="0 +18.5e-3 11e-3"/>
      <geometry>
        <box size="22e-3 15e-3 20e-3"/>
      </geometry>
    </collision>
    <!-- cartriage sledge -->
    <collision>
      <origin rpy="0 0 0" xyz="0 +6.8e-3 2.2e-3"/>
      <geometry>
        <box size="22e-3 8.8e-3 3.8e-3"/>
      </geometry>
    </collision>
    <!-- diagonal finger -->
    <collision>
      <origin rpy="+0.5235987755982988 0 0" xyz="0 +15.9e-3 28.35e-3"/>
      <geometry>
        <box size="17.5e-3 7e-3 23.5e-3"/>
      </geometry>
    </collision>
    <!-- rubber tip with which to grasp -->
    <collision>
      <origin rpy="0 0 0" xyz="0 +7.58e-3 45.25e-3"/>
      <geometry>
        <box size="17.5e-3 15.2e-3 18.5e-3"/>
      </geometry>
    </collision>
  </link>
  <link name="panda_left_rightfinger">
    <inertial>
      <mass value="0.015"/>
      <inertia ixx="2.3749999999999997e-06" ixy="0" ixz="0" iyy="2.3749999999999997e-06" iyz="0" izz="7.5e-07"/>
    </inertial>
    <visual>
      <origin rpy="0 0 3.141592653589793" xyz="0 0 0"/>
      <geometry>
        <mesh filename="../meshes/franka/visual/finger.dae"/>
      </geometry>
    </visual>
    <!-- screw mount -->
    <collision>
      <origin rpy="0 0 0" xyz="0 -18.5e-3 11e-3"/>
      <geometry>
        <box size="22e-3 15e-3 20e-3"/>
      </geometry>
    </collision>
    <!-- cartriage sledge -->
    <collision>
      <origin rpy="0 0 0" xyz="0 -6.8e-3 2.2e-3"/>
      <geometry>
        <box size="22e-3 8.8e-3 3.8e-3"/>
      </geometry>
    </collision>
    <!-- diagonal finger -->
    <collision>
      <origin rpy="-0.5235987755982988 0 0" xyz="0 -15.9e-3 28.35e-3"/>
      <geometry>
        <box size="17.5e-3 7e-3 23.5e-3"/>
      </geometry>
    </collision>
    <!-- rubber tip with which to grasp -->
    <collision>
      <origin rpy="0 0 0" xyz="0 -7.58e-3 45.25e-3"/>
      <geometry>
        <box size="17.5e-3 15.2e-3 18.5e-3"/>
      </geometry>
    </collision>
  </link>
  <joint name="panda_left_finger_joint1" type="prismatic">
    <parent link="panda_left_hand"/>
    <child link="panda_left_leftfinger"/>
    <origin rpy="0 0 0" xyz="0 0 0.0584"/>
    <axis xyz="0 1 0"/>
    <limit effort="100" lower="0.0" upper="0.04" velocity="0.2"/>
    <dynamics damping="0.03" friction="0.0"/>
  </joint>
  <joint name="panda_left_finger_joint2" type="prismatic">
    <parent link="panda_left_hand"/>
    <child link="panda_left_rightfinger"/>
    <origin rpy="0 0 0" xyz="0 0 0.0584"/>
    <axis xyz="0 -1 0"/>
    <limit effort="100" lower="0.0" upper="0.04" velocity="0.2"/>
    <dynamics damping="0.03" friction="0.0"/>
    <mimic joint="panda_left_finger_joint1"/>
  </joint>
  <joint name="panda_right_hand_joint" type="fixed">
    <parent link="panda_right_link7"/>
    <child link="panda_right_hand"/>
    <origin rpy="0 0 -0.7853981633974483" xyz="0 0 0.107"/>
  </joint>
  <link name="panda_right_hand">
    <visual>
      <geometry>
        <mesh filename="../meshes/franka/visual/hand.dae"/>
      </geometry>
    </visual>
    <collision>
      <geometry>
        <mesh filename="../meshes/franka/collision/hand.stl"/>
      </geometry>
    </collision>
    <inertial>
      <mass value="0.73"/>
      <origin xyz="-0.01 0 0.03"/>
      <inertia ixx="0.001" ixy="0" ixz="0" iyy="0.0025" iyz="0" izz="0.0017"/>
    </inertial>
  </link>
  <link name="panda_right_leftfinger">
    <inertial>
      <mass value="0.015"/>
      <inertia ixx="2.3749999999999997e-06" ixy="0" ixz="0" iyy="2.3749999999999997e-06" iyz="0" izz="7.5e-07"/>
    </inertial>
    <visual>
      <geometry>
        <mesh filename="../meshes/franka/visual/finger.dae"/>
      </geometry>
    </visual>
    <!-- screw mount -->
    <collision>
      <origin rpy="0 0 0" xyz="0 +18.5e-3 11e-3"/>
      <geometry>
        <box size="22e-3 15e-3 20e-3"/>
      </geometry>
    </collision>
    <!-- cartriage sledge -->
    <collision>
      <origin rpy="0 0 0" xyz="0 +6.8e-3 2.2e-3"/>
      <geometry>
        <box size="22e-3 8.8e-3 3.8e-3"/>
      </geometry>
    </collision>
    <!-- diagonal finger -->
    <collision>
      <origin rpy="+0.5235987755982988 0 0" xyz="0 +15.9e-3 28.35e-3"/>
      <geometry>
        <box size="17.5e-3 7e-3 23.5e-3"/>
      </geometry>
    </collision>
    <!-- rubber tip with which to grasp -->
    <collision>
      <origin rpy="0 0 0" xyz="0 +7.58e-3 45.25e-3"/>
      <geometry>
        <box size="17.5e-3 15.2e-3 18.5e-3"/>
      </geometry>
    </collision>
  </link>
  <link name="panda_right_rightfinger">
    <inertial>
      <mass value="0.015"/>
      <inertia ixx="2.3749999999999997e-06" ixy="0" ixz="0" iyy="2.3749999999999997e-06" iyz="0" izz="7.5e-07"/>
    </inertial>
    <visual>
      <origin rpy="0 0 3.141592653589793" xyz="0 0 0"/>
      <geometry>
        <mesh filename="../meshes/franka/visual/finger.dae"/>
      </geometry>
    </visual>
    <!-- screw mount -->
    <collision>
      <origin rpy="0 0 0" xyz="0 -18.5e-3 11e-3"/>
      <geometry>
        <box size="22e-3 15e-3 20e-3"/>
      </geometry>
    </collision>
    <!-- cartriage sledge -->
    <collision>
      <origin rpy="0 0 0" xyz="0 -6.8e-3 2.2e-3"/>
      <geometry>
        <box size="22e-3 8.8e-3 3.8e-3"/>
      </geometry>
    </collision>
    <!-- diagonal finger -->
    <collision>
      <origin rpy="-0.5235987755982988 0 0" xyz="0 -15.9e-3 28.35e-3"/>
      <geometry>
        <box size="17.5e-3 7e-3 23.5e-3"/>
      </geometry>
    </collision>
    <!-- rubber tip with which to grasp -->
    <collision>
      <origin rpy="0 0 0" xyz="0 -7.58e-3 45.25e-3"/>
      <geometry>
        <box size="17.5e-3 15.2e-3 18.5e-3"/>
      </geometry>
    </collision>
  </link>
  <joint name="panda_right_finger_joint1" type="prismatic">
    <parent link="panda_right_hand"/>
    <child link="panda_right_leftfinger"/>
    <origin rpy="0 0 0" xyz="0 0 0.0584"/>
    <axis xyz="0 1 0"/>
    <limit effort="100" lower="0.0" upper="0.04" velocity="0.2"/>
    <dynamics damping="0.03" friction="0.0"/>
  </joint>
  <joint name="panda_right_finger_joint2" type="prismatic">
    <parent link="panda_right_hand"/>
    <child link="panda_right_rightfinger"/>
    <origin rpy="0 0 0" xyz="0 0 0.0584"/>
    <axis xyz="0 -1 0"/>
    <limit effort="100" lower="0.0" upper="0.04" velocity="0.2"/>
    <dynamics damping="0.03" friction="0.0"/>
    <mimic joint="panda_right_finger_joint1"/>
  </joint>
</robot>
